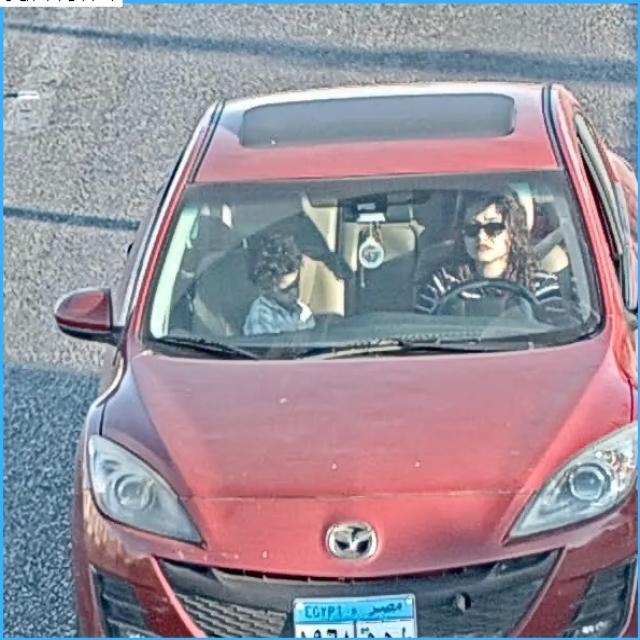windshield: (132, 172, 602, 343)
